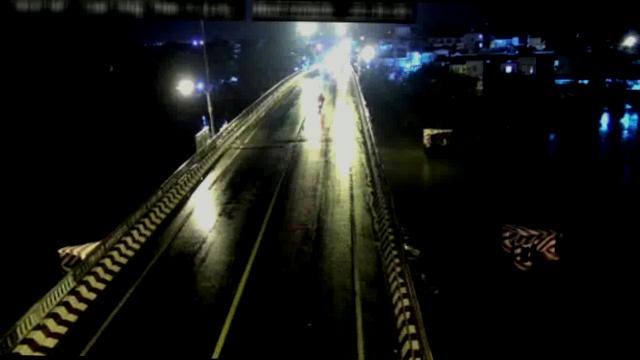Bike: (316, 92, 327, 114)
